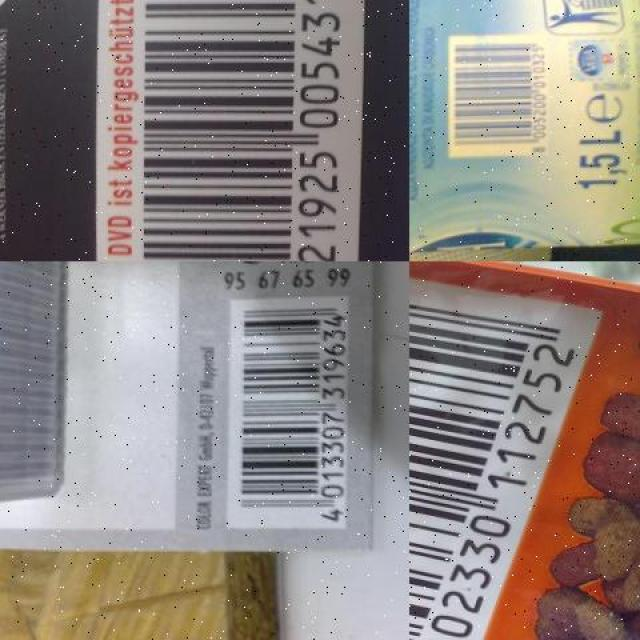Barcode: (409, 261, 616, 640), (87, 0, 365, 261), (230, 295, 353, 530), (445, 32, 552, 160)
